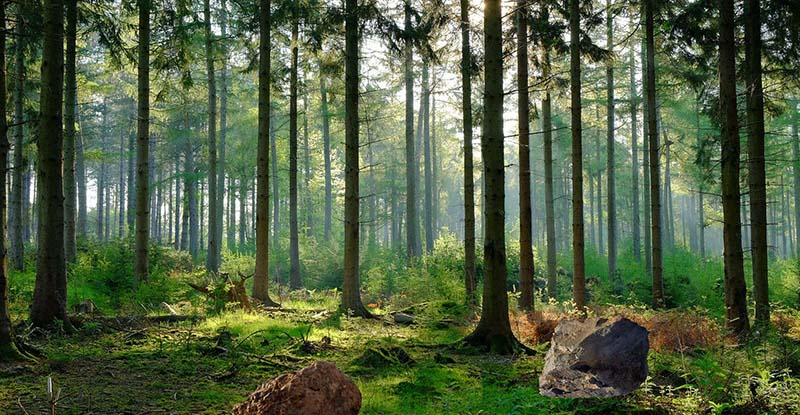Rocks: (533, 311, 658, 401), (222, 359, 366, 415)
